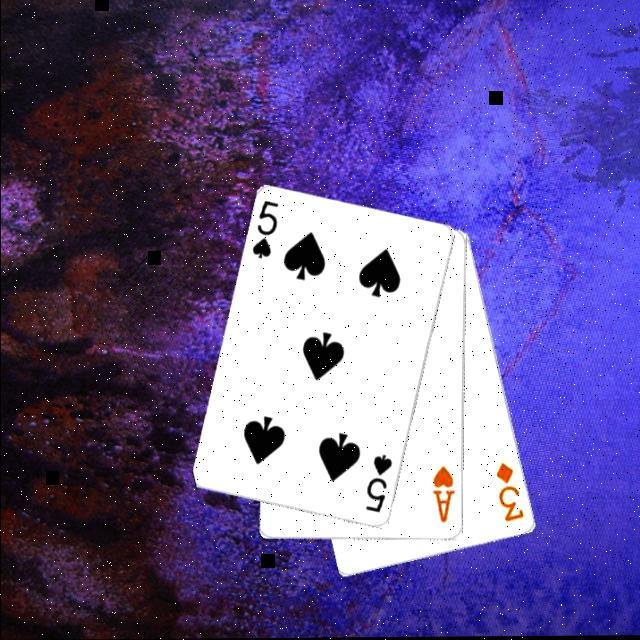3D: (495, 458, 529, 524)
5S: (364, 452, 396, 516), (251, 197, 283, 261)
AH: (431, 463, 459, 525)
